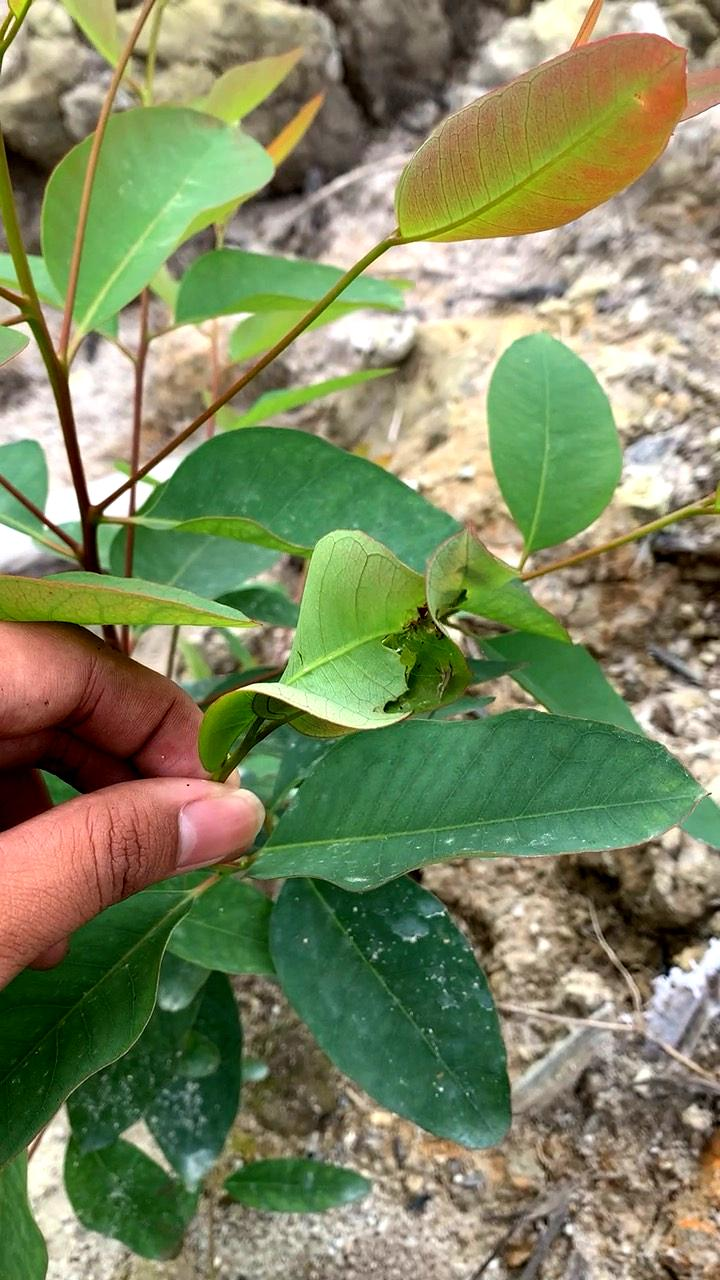Leaf Roller - Leaf: (243, 520, 518, 812)
